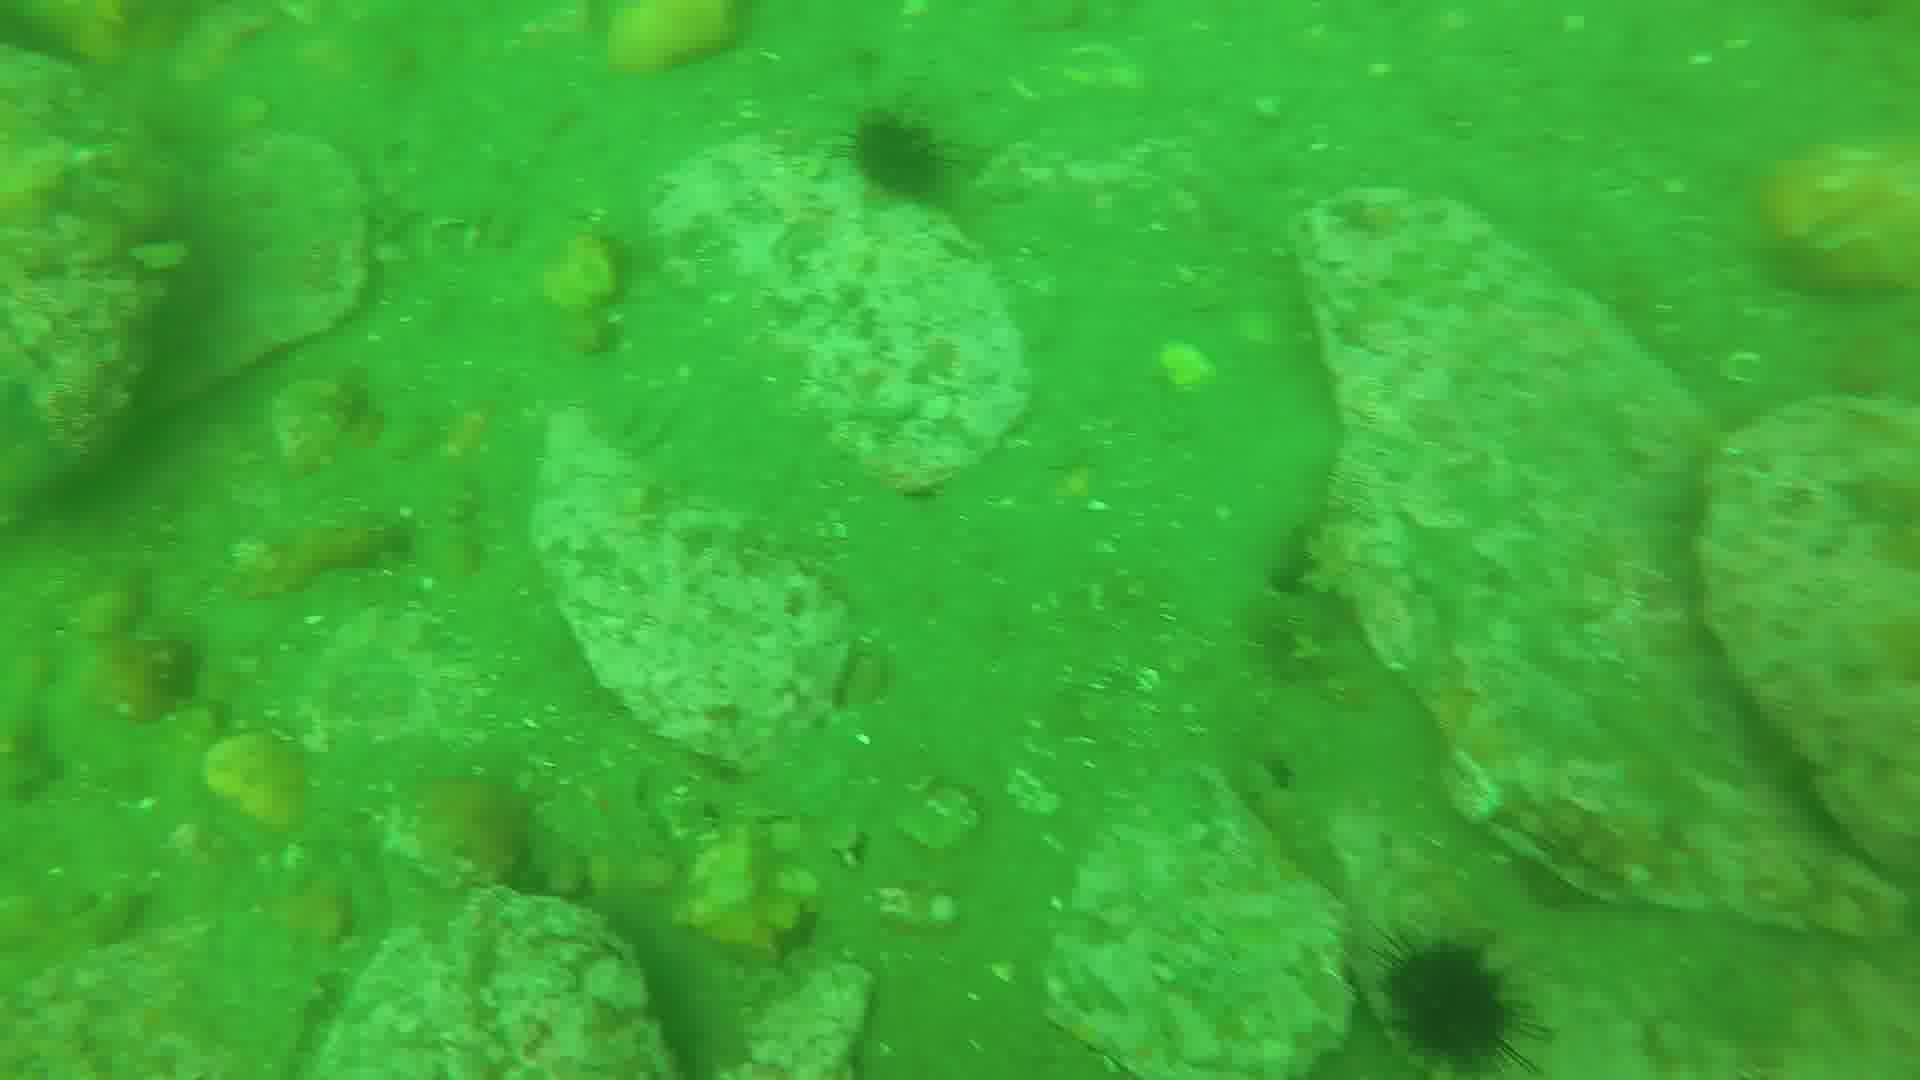echinus: (1370, 923, 1526, 1079), (851, 111, 949, 208)
